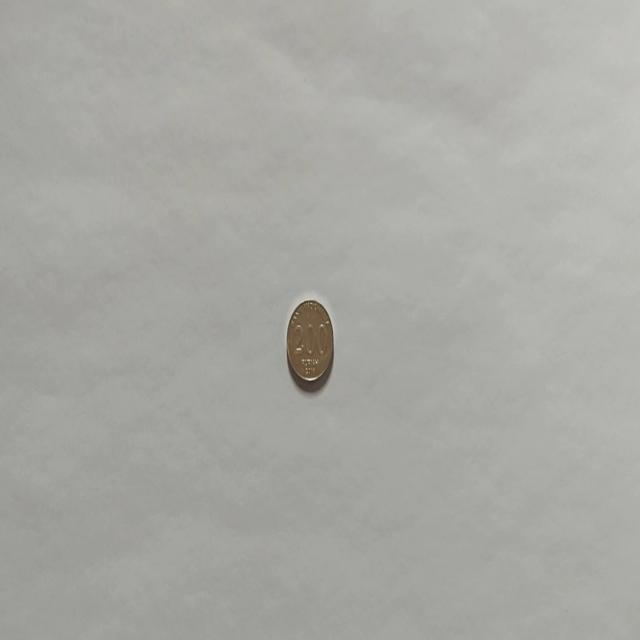dua ratus rupiah: (285, 297, 334, 385)
